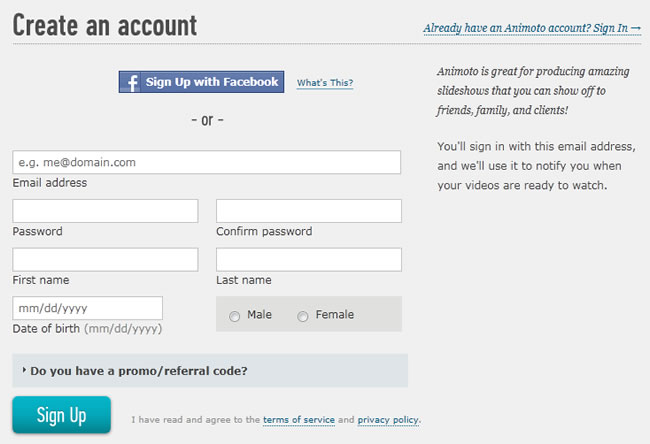_form_: (1, 28, 416, 444)
button: (11, 395, 112, 436), (119, 70, 284, 94)
field: (12, 149, 403, 175), (8, 198, 199, 224), (11, 247, 200, 273), (215, 247, 401, 273), (215, 199, 403, 224), (11, 296, 164, 321)
field_with_label: (9, 148, 404, 187), (212, 196, 405, 236), (5, 196, 201, 235), (9, 245, 202, 284), (212, 246, 403, 285), (9, 294, 166, 335)
radio: (226, 308, 242, 323), (297, 308, 310, 323)
radio_with_label: (294, 307, 354, 325), (223, 305, 274, 325)
